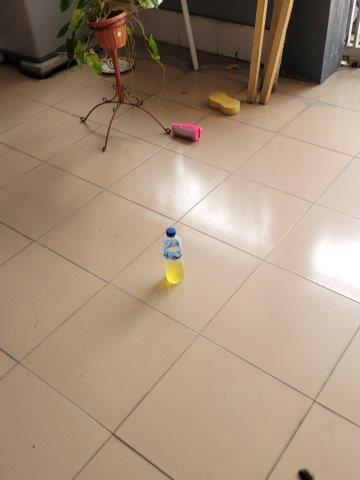botolplastik: (163, 229, 186, 285)
